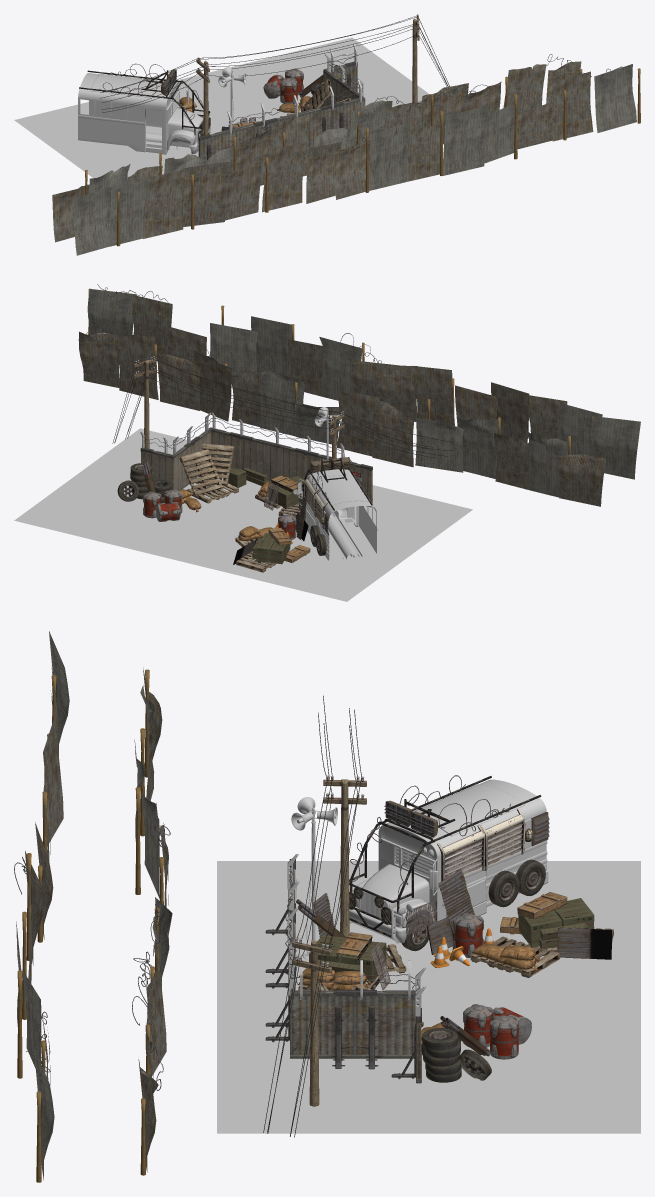
Rendered from env_particleCallbacks.fbx.
3 renders of one model, top to bottom at view 1: azimuth 30°, elevation 25°; view 2: azimuth 150°, elevation 25°; view 3: azimuth 270°, elevation 25°, orthographic. The views are drawn at different scales.
Parts seen in each view (by area): view 1: background, ground, prop_battleBus_001, walls, wires, debris, prop_telegraphPole_002, prop_telegraphPole_001, prop_megaphone_001, prop_barrel_004; view 2: background, ground, debris, walls, prop_battleBus_001, wires, prop_telegraphPole_002; view 3: ground, prop_battleBus_001, background, debris, walls, wires, prop_telegraphPole_002, prop_telegraphPole_001, prop_megaphone_001, prop_barrel_006, prop_barrel_007, prop_barrel_004.
Boxes of the visible parts, x1,y1,x2,y2 form: background: [52, 54, 640, 255]; ground: [14, 37, 429, 178]; prop_battleBus_001: [78, 63, 210, 154]; walls: [198, 43, 365, 159]; wires: [99, 15, 449, 112]; debris: [179, 65, 350, 131]; prop_telegraphPole_002: [412, 14, 419, 103]; prop_telegraphPole_001: [196, 57, 209, 135]; prop_megaphone_001: [218, 67, 246, 128]; prop_barrel_004: [280, 78, 297, 103]; background: [78, 284, 640, 506]; ground: [14, 428, 472, 601]; debris: [117, 443, 324, 572]; walls: [140, 412, 372, 507]; prop_battleBus_001: [293, 457, 377, 560]; wires: [112, 357, 452, 457]; prop_telegraphPole_002: [133, 356, 156, 448]; ground: [217, 861, 640, 1133]; prop_battleBus_001: [349, 775, 549, 951]; background: [14, 631, 172, 1182]; debris: [296, 869, 613, 1082]; walls: [265, 854, 425, 1083]; wires: [263, 695, 361, 1137]; prop_telegraphPole_002: [292, 937, 331, 1106]; prop_telegraphPole_001: [323, 775, 366, 937]; prop_megaphone_001: [291, 797, 337, 960]; prop_barrel_006: [490, 1015, 518, 1059]; prop_barrel_007: [452, 913, 483, 957]; prop_barrel_004: [463, 1004, 493, 1047].
Size of the model in its own units: 3407 by 584 by 1984.
